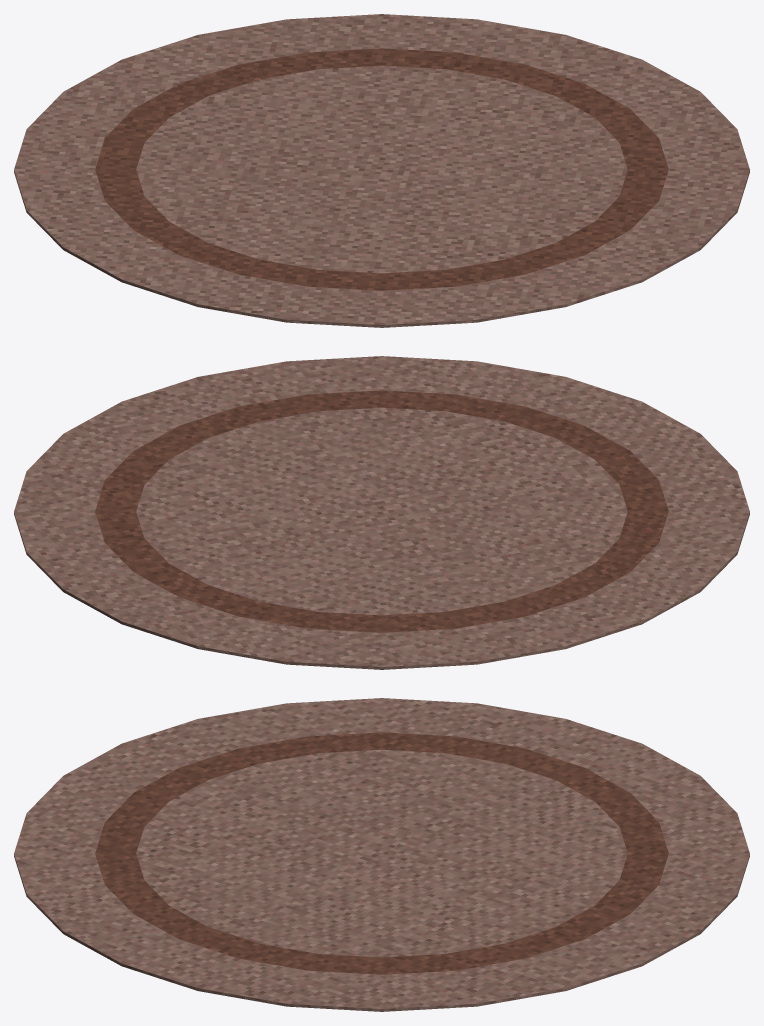
Rendered from carpet_round.fbx.
3 views of the same model, one above another, from view 1: azimuth 30°, elevation 25°; view 2: azimuth 150°, elevation 25°; view 3: azimuth 270°, elevation 25° (orthographic).
Visible parts, largest first — view 1: rugRound; view 2: rugRound; view 3: rugRound.
Part boxes in pixels (<box>): rugRound: <box>14,14,749,327</box>; rugRound: <box>14,356,749,669</box>; rugRound: <box>14,698,749,1011</box>.
Size of the model in its own units: 719 by 3.06 by 719.
